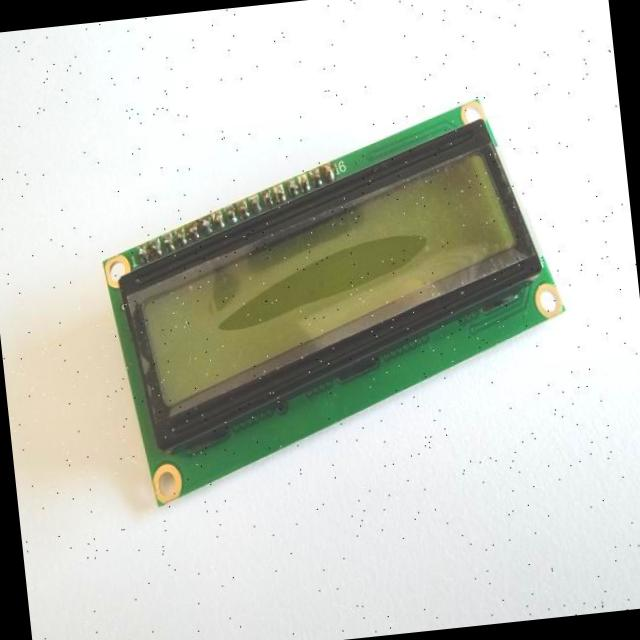lcd: (87, 90, 580, 510)
